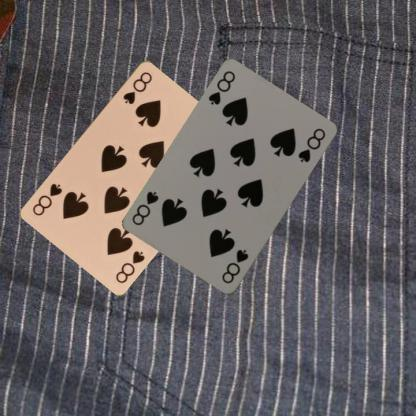8s: (120, 68, 153, 106), (113, 247, 146, 284), (206, 68, 237, 107), (219, 247, 250, 285)
